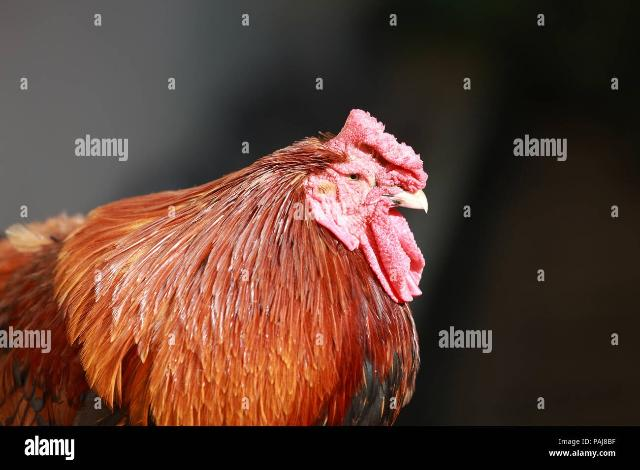Chicken: (0, 109, 429, 428)
